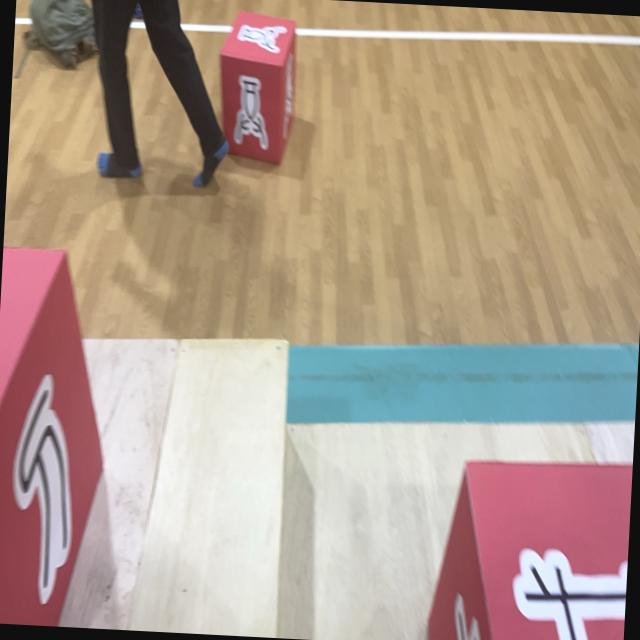3: (6, 370, 85, 609)
8: (232, 73, 272, 151), (234, 22, 288, 56)
9: (508, 544, 628, 640), (450, 592, 487, 640)
fighter: (0, 246, 113, 628), (425, 451, 632, 640), (213, 10, 299, 166)
